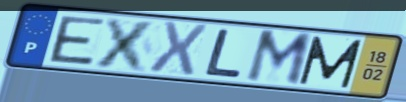E: (47, 14, 108, 67)
L: (201, 27, 245, 80)
M: (242, 28, 316, 89), (297, 34, 366, 90)
X: (91, 15, 162, 74), (145, 19, 210, 77)
